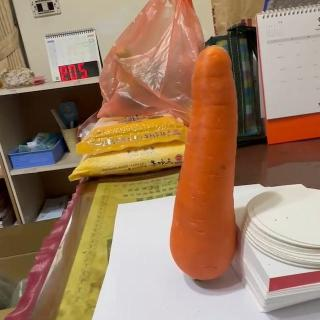carrot: (169, 44, 240, 282)
